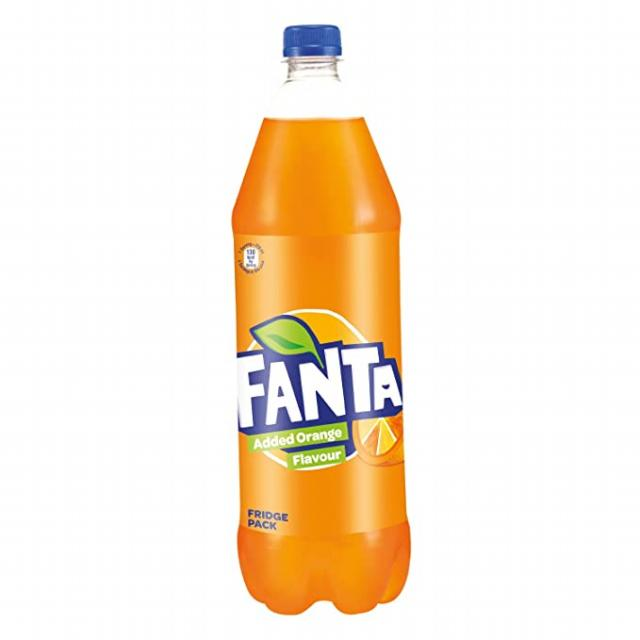Soda: (230, 24, 414, 617)
